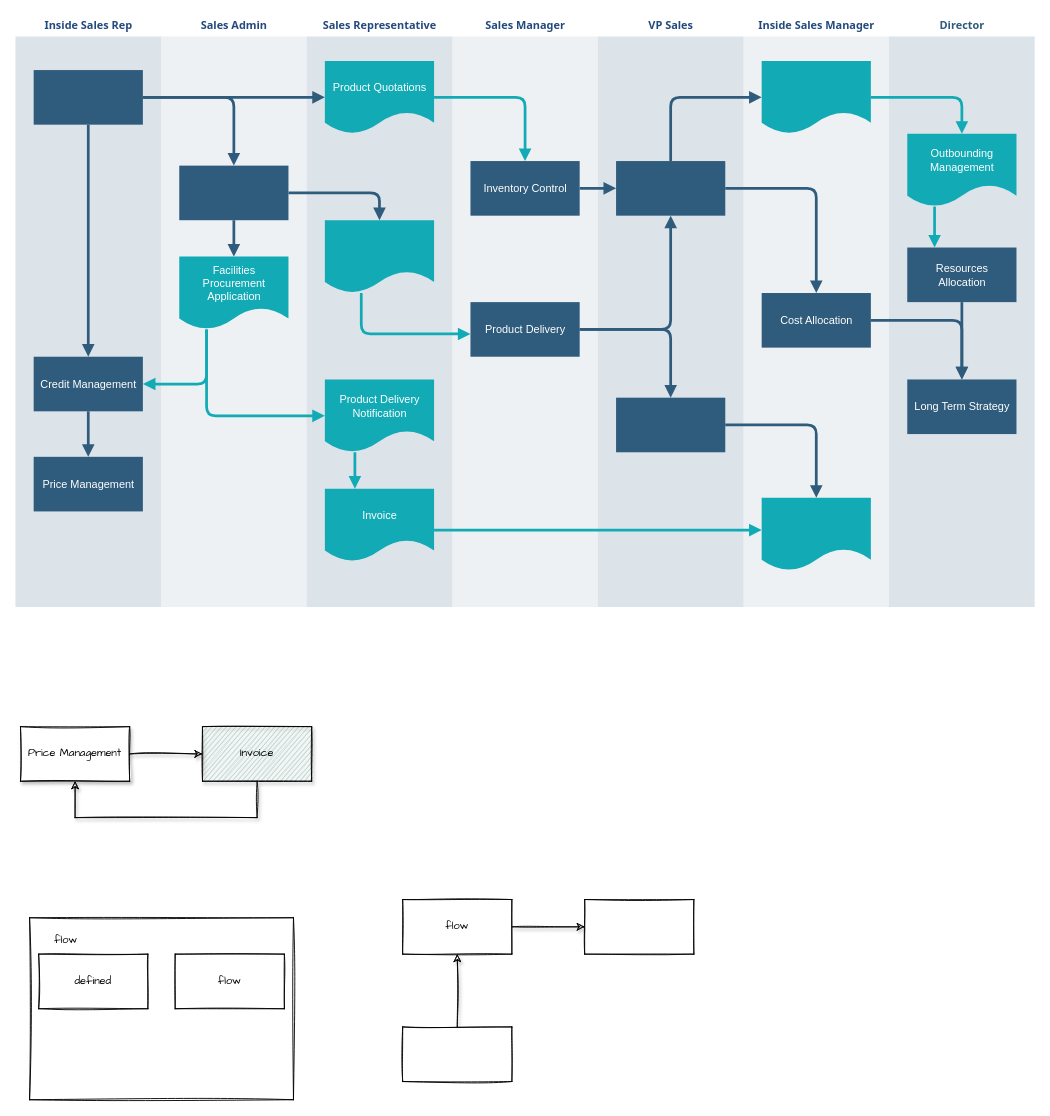
This 1050x1116 diagram has some shape labels left out. The centre of each missing label's shape, as x and y in pixels:
"Account Processing" goes at (x=670, y=424).
"Bills" goes at (x=815, y=533).
"blockly" goes at (x=457, y=1054).
"Customer Management" goes at (x=87, y=97).
"Material Requirements Planning Operation" goes at (x=233, y=192).
"Orders" goes at (x=379, y=256).
"Outbound Accounting" goes at (x=670, y=188).
"Sales Contract" goes at (x=815, y=97).
"scanner" goes at (x=639, y=926).
